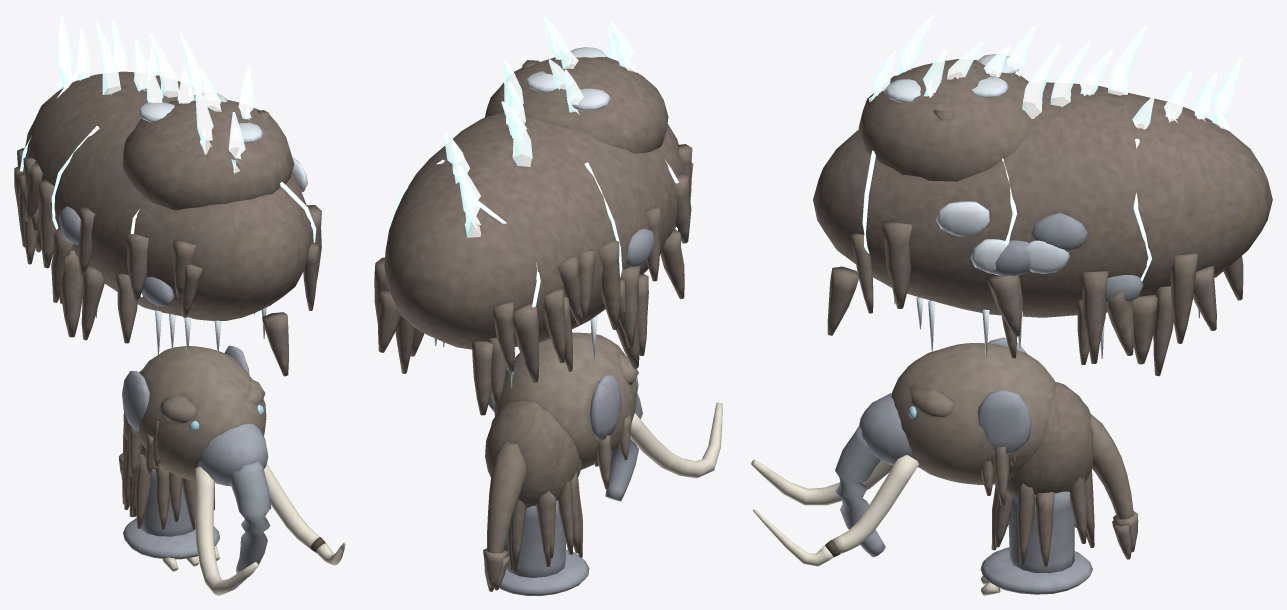
File: ancient.glb
The picture shows the model from 3 angles, left to right: view 1: azimuth 30°, elevation 25°; view 2: azimuth 150°, elevation 25°; view 3: azimuth 270°, elevation 25°; orthographic projection. The views are drawn at different scales.
Parts seen in each view (by area): view 1: ancient_body, ancient_head, ancient_crystals, ancient_leg_back, ancient_leg_front; view 2: ancient_body, ancient_head, ancient_leg_back, ancient_crystals, ancient_leg_front, ancient_tail; view 3: ancient_body, ancient_head, ancient_leg_back, ancient_crystals, ancient_leg_front, ancient_tail.
Boxes of the visible parts, x1,y1,x2,y2 form: ancient_body: (14,71,321,376); ancient_head: (122,345,345,595); ancient_crystals: (20,14,316,296); ancient_leg_back: (122,414,219,571); ancient_leg_front: (122,370,214,529); ancient_body: (374,47,693,415); ancient_head: (488,332,722,501); ancient_leg_back: (485,401,589,595); ancient_crystals: (390,14,678,307); ancient_leg_front: (491,401,582,572); ancient_tail: (483,441,526,591); ancient_body: (813,54,1272,376); ancient_head: (751,337,1055,566); ancient_leg_back: (980,381,1094,595); ancient_crystals: (862,14,1241,281); ancient_leg_front: (991,382,1094,564); ancient_tail: (1090,413,1138,559).
Bounding box in the file's own units: 4.08 × 9.36 × 7.93.
Materials: 3 (1 with a texture image).
